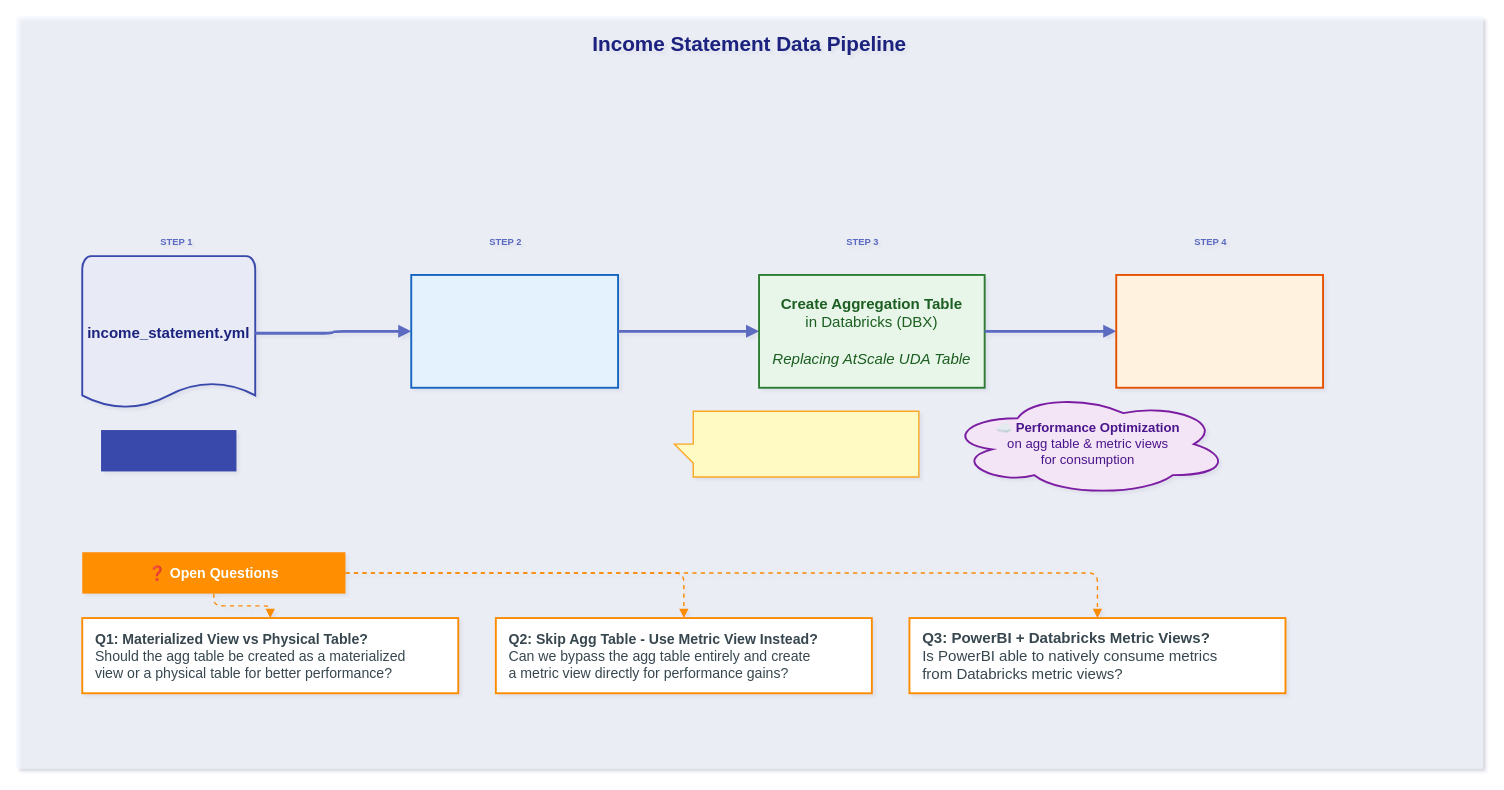
Image size: 1504x790. Some labels were removed from this diagram. Here are the shapes that lost their labels. From the top down, the centre of each, then its label:
point (514, 331): Create Fact / Dim Tables with mock data in Databricks (DBX)
point (1219, 331): Consume in PowerBI 📈 Reports & Dashboards
point (168, 450): 18 Tables (Facts / Dims)
point (796, 443): 📊 25B row facts aggregated down to 4 billion rows
